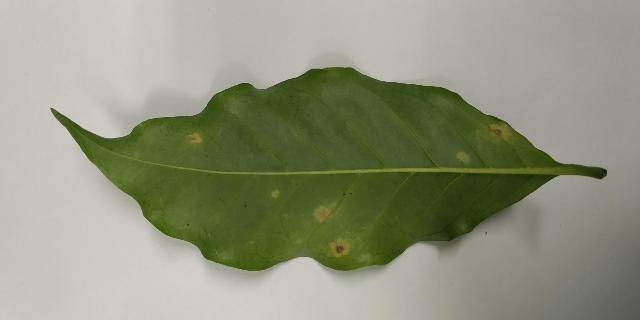miner: (490, 123, 511, 141), (331, 240, 349, 256), (315, 207, 332, 221), (188, 133, 201, 143), (457, 152, 468, 161)
